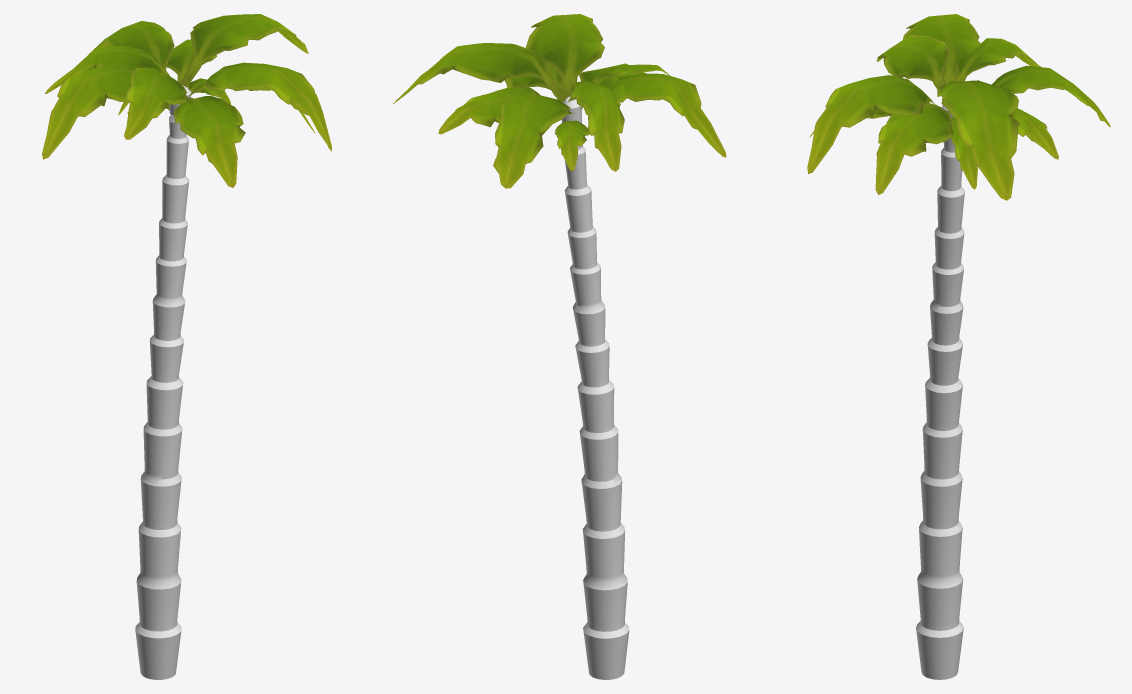
Rendered from Palm2.fbx.
3 renders of one model, left to right at view 1: azimuth 30°, elevation 25°; view 2: azimuth 150°, elevation 25°; view 3: azimuth 270°, elevation 25°, orthographic. The views are drawn at different scales.
Visible parts, largest first — view 1: Palm2_LOD0; view 2: Palm2_LOD0; view 3: Palm2_LOD0.
Boxes of the visible parts, x1,y1,x2,y2 form: Palm2_LOD0: (42,14,331,679); Palm2_LOD0: (393,14,726,679); Palm2_LOD0: (807,14,1110,679).
Size of what is drawn, in the model's own units: 447 by 826 by 401.
